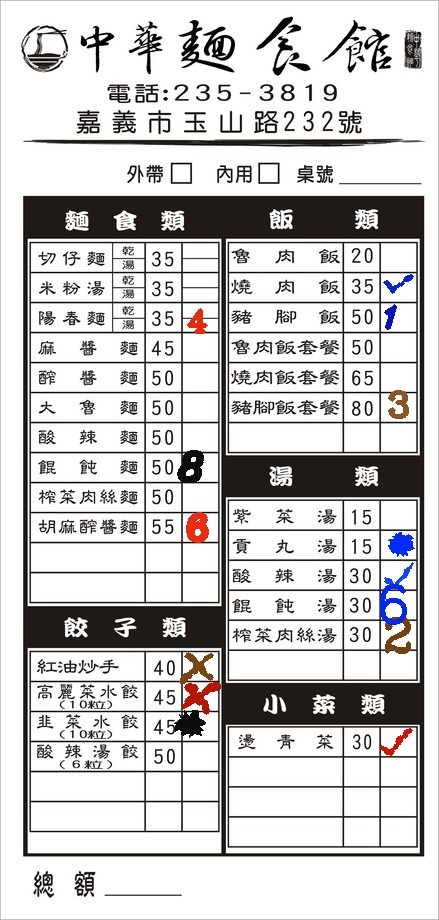marked_circle: (380, 531, 416, 560), (181, 711, 217, 740)
marked_number_1: (380, 302, 416, 331)
marked_number_2: (380, 619, 416, 648)
marked_number_3: (381, 393, 417, 422)
marked_number_4: (183, 317, 217, 330)
marked_number_6: (181, 512, 217, 541), (380, 589, 416, 618)
marked_number_8: (179, 453, 215, 482)
marked_tick: (380, 561, 416, 590), (380, 726, 416, 755), (378, 271, 414, 300)
marked_x: (181, 681, 217, 710), (182, 651, 218, 680)
